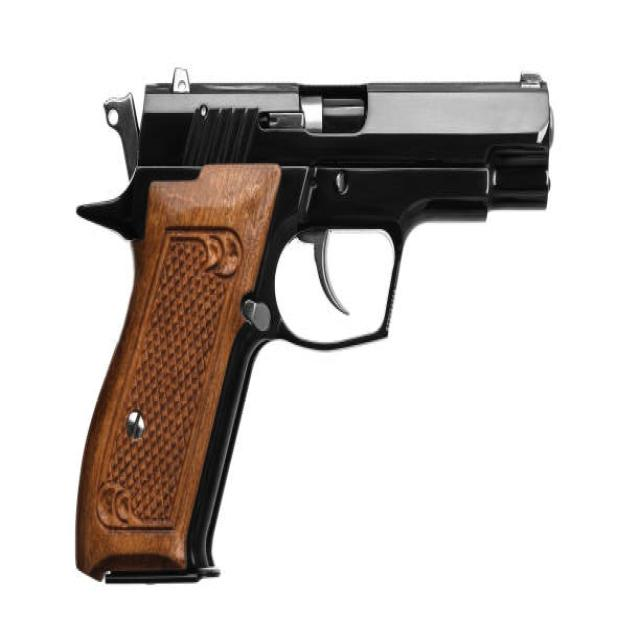pistol: (70, 59, 564, 596)
